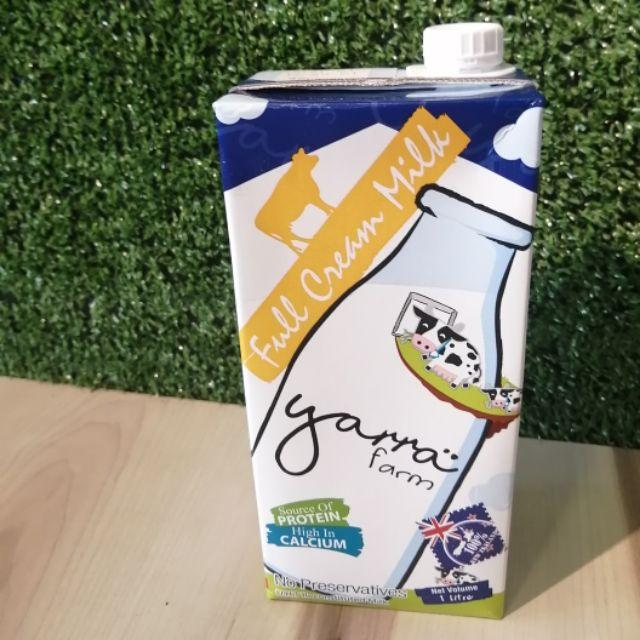cardboard: (205, 21, 530, 625)
